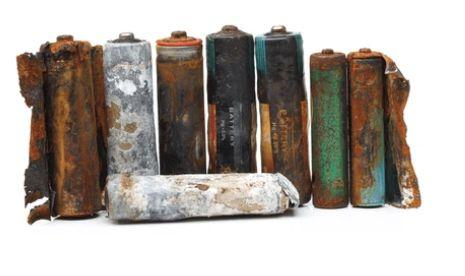battery: (16, 33, 104, 225), (348, 46, 413, 214), (101, 171, 300, 223), (255, 22, 308, 208), (102, 29, 156, 211), (207, 21, 255, 201), (158, 28, 206, 190), (312, 45, 348, 209)
